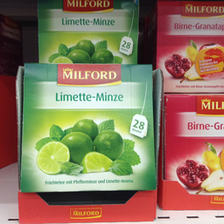tea: (18, 63, 158, 193), (37, 1, 138, 64), (154, 1, 223, 93), (162, 93, 224, 194)
